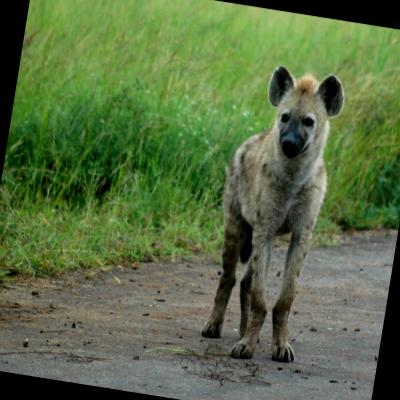hyenas: (162, 34, 400, 400)
